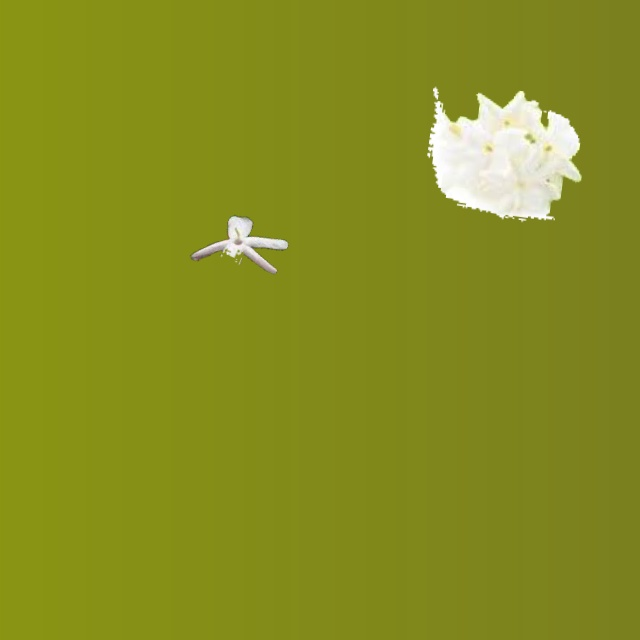jasmine: (427, 87, 581, 220), (191, 215, 288, 273)
